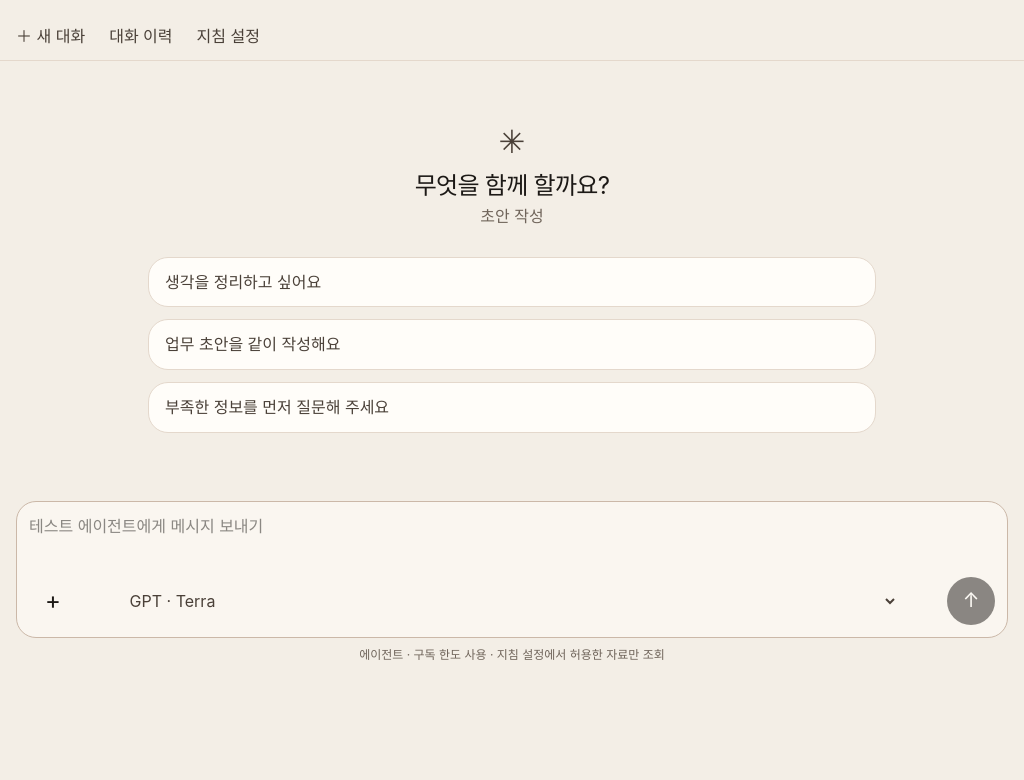
Test: agent conversation interactions › sends the selected model, displays the answer and opens stored history
Expected: the heading "무엇을 함께 할까요?" is shown, x1=415 y1=171 x2=609 y2=200
Select "GPT · Mini" in the dropdown named "대화 모델": (512, 601) x1=126 y1=577 x2=898 y2=625
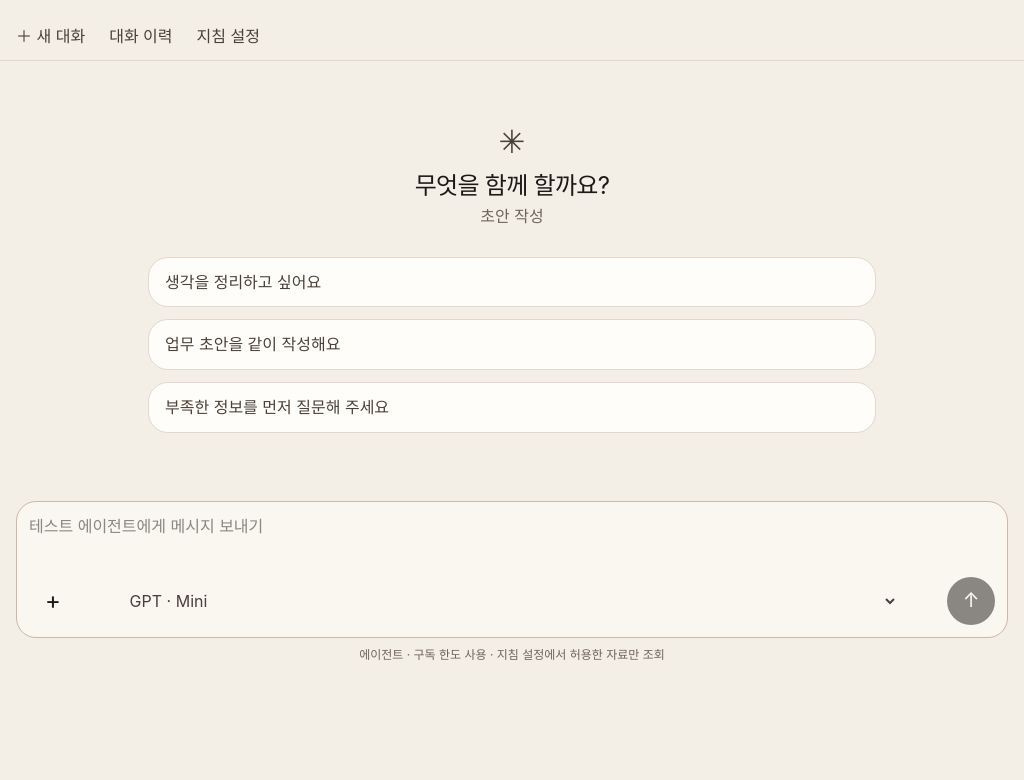
In the text box labelled "메시지": (512, 542) x1=29 y1=514 x2=995 y2=570, type "테스트 요청"
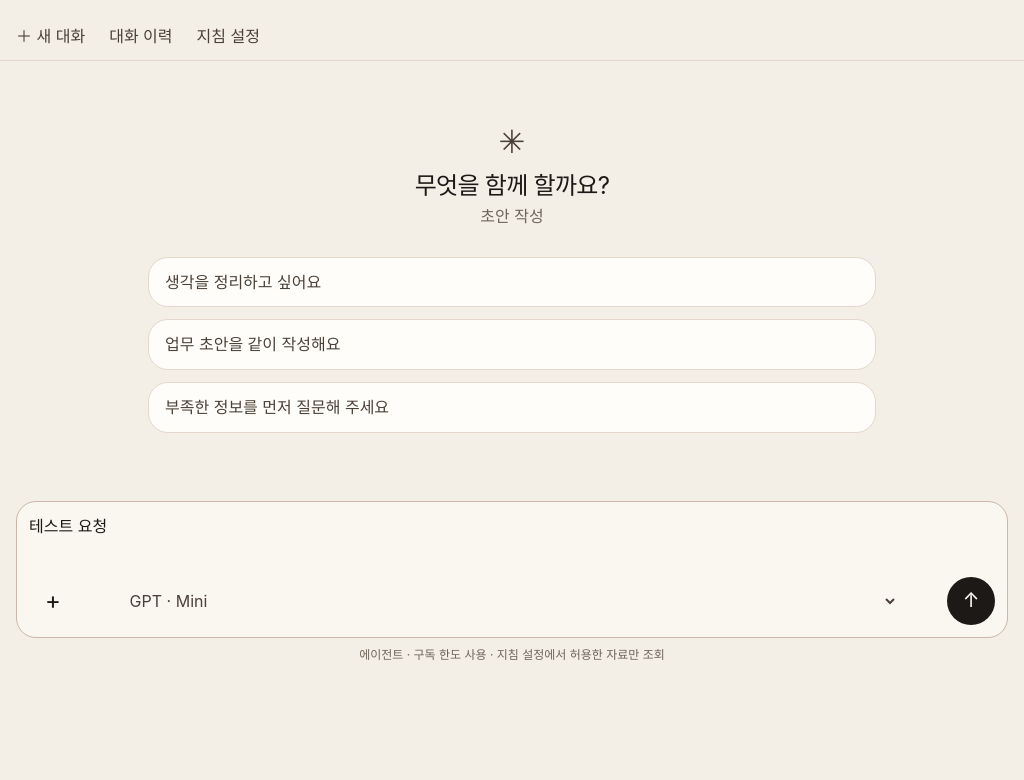
Click the button named "메시지 보내기": (971, 601) x1=947 y1=577 x2=995 y2=625
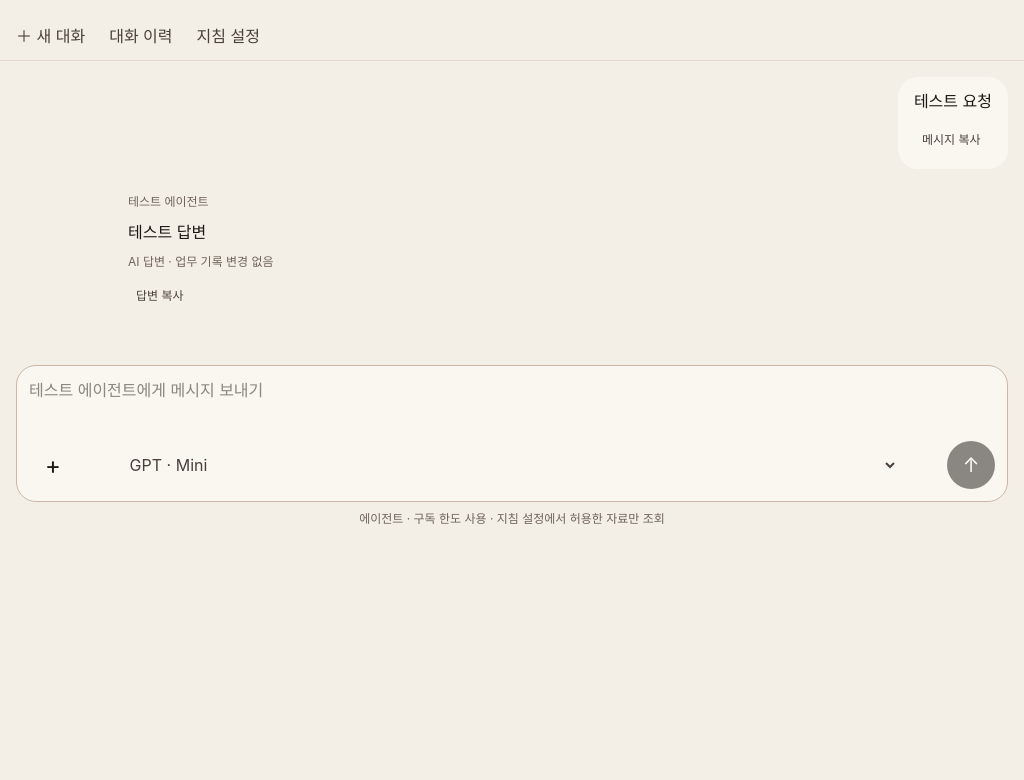
Expected: the text "테스트 답변" is shown, x1=128 y1=222 x2=206 y2=242
Click the button "대화 이력": (141, 36) x1=101 y1=12 x2=181 y2=60
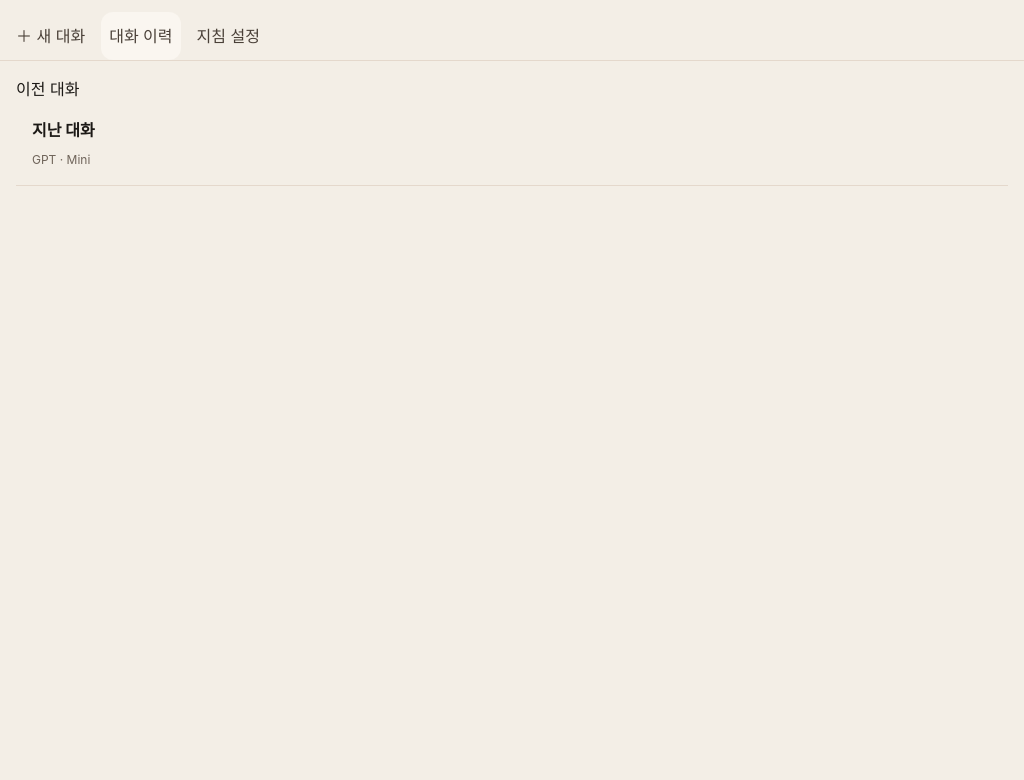
Click the text "지난 대화": (63, 130) x1=32 y1=120 x2=95 y2=140
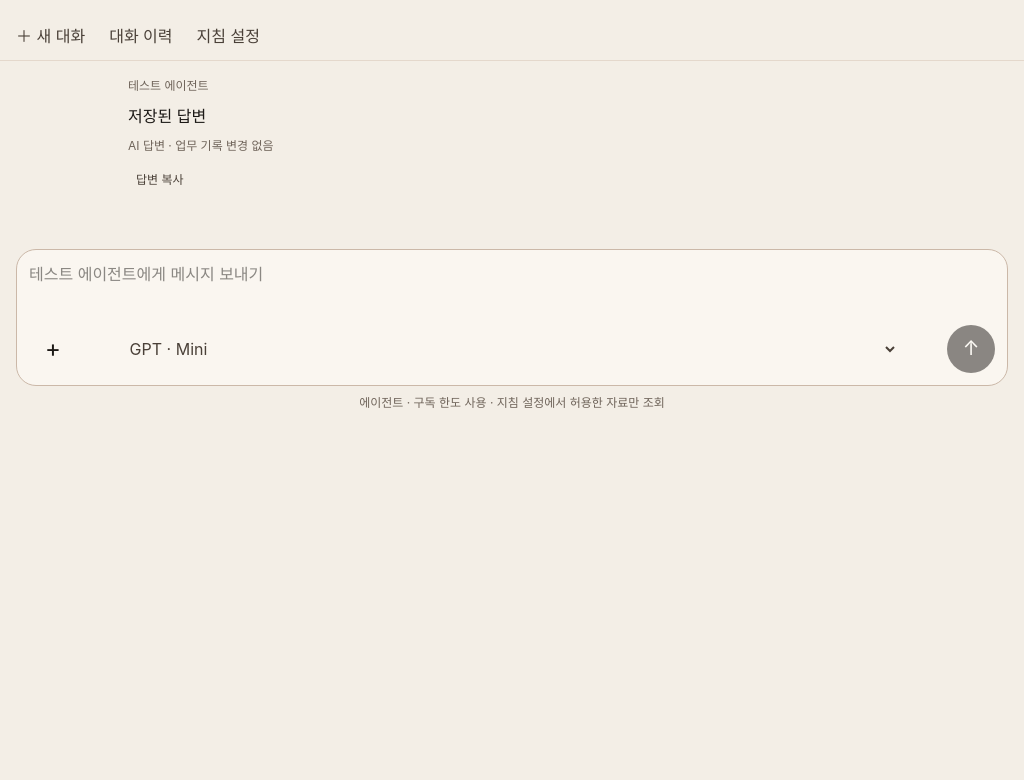
Expected: the text "저장된 답변" is shown, x1=128 y1=106 x2=206 y2=126
